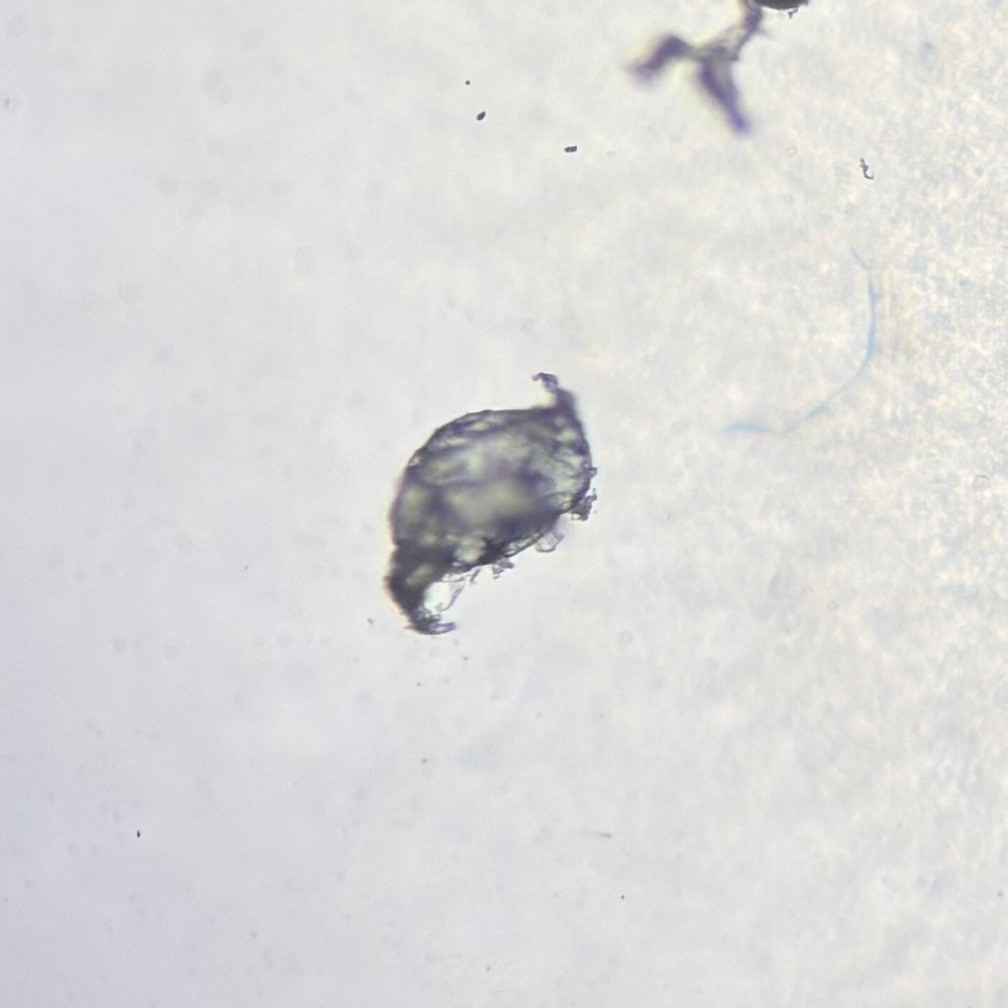microplastic: (382, 372, 598, 637), (621, 1, 811, 140)
